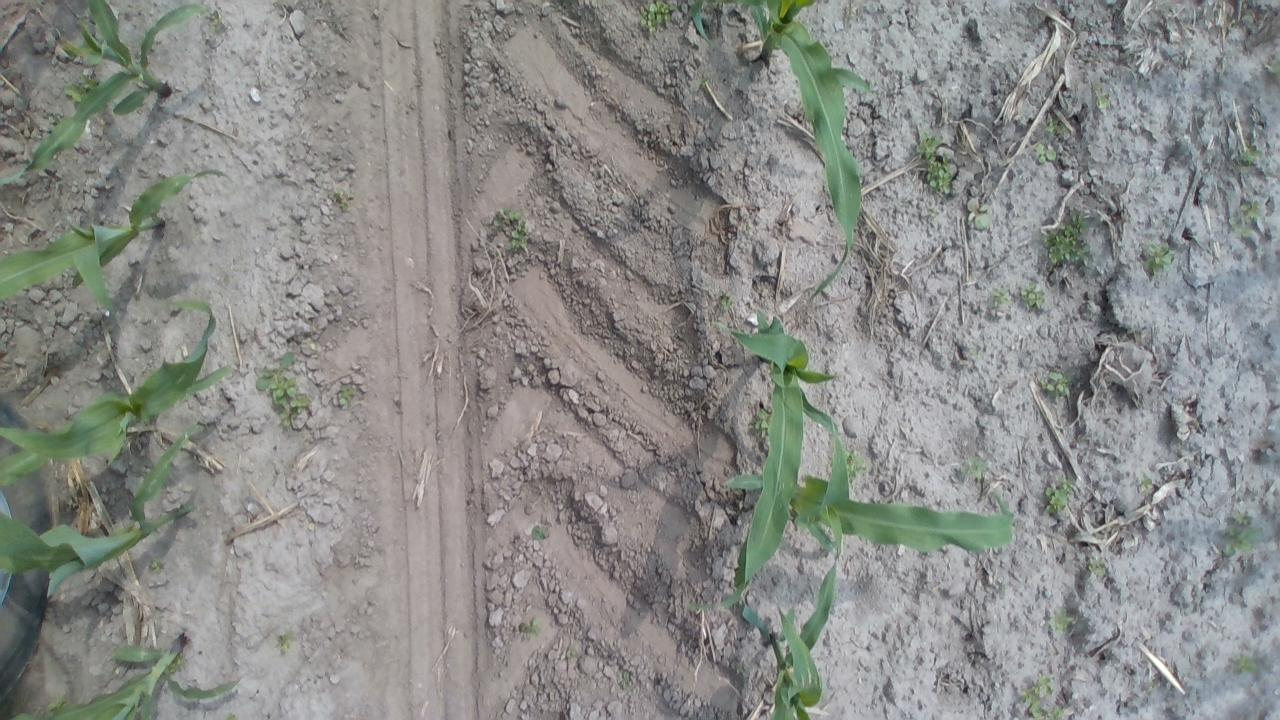Maize: (690, 0, 876, 305), (684, 307, 846, 617), (0, 296, 241, 488), (718, 426, 1022, 560), (0, 0, 214, 186), (0, 418, 217, 598), (0, 164, 229, 334), (1, 634, 243, 720), (736, 551, 844, 720)
Weeds: (255, 350, 313, 424), (1043, 206, 1093, 266), (916, 128, 959, 196), (1015, 675, 1073, 720), (492, 205, 534, 256), (1220, 512, 1265, 558), (1136, 241, 1184, 282), (1226, 194, 1264, 238), (638, 0, 679, 35), (62, 71, 102, 102), (1088, 84, 1124, 116), (1016, 282, 1052, 313), (1042, 478, 1074, 512), (964, 198, 996, 232), (1037, 368, 1071, 399), (840, 446, 869, 481), (962, 454, 992, 484), (515, 614, 548, 640), (1048, 605, 1074, 636), (272, 628, 300, 656), (1238, 140, 1264, 170), (988, 284, 1014, 312), (332, 383, 357, 412), (326, 188, 354, 213), (1032, 142, 1060, 166), (752, 408, 776, 435), (1044, 112, 1066, 141), (735, 660, 757, 688), (614, 666, 637, 691), (1086, 553, 1108, 578), (44, 693, 70, 714), (1230, 654, 1256, 675), (1265, 50, 1280, 85), (713, 287, 735, 310), (532, 522, 554, 545), (1135, 476, 1158, 494), (167, 657, 186, 676), (564, 640, 582, 660), (694, 70, 710, 89)
